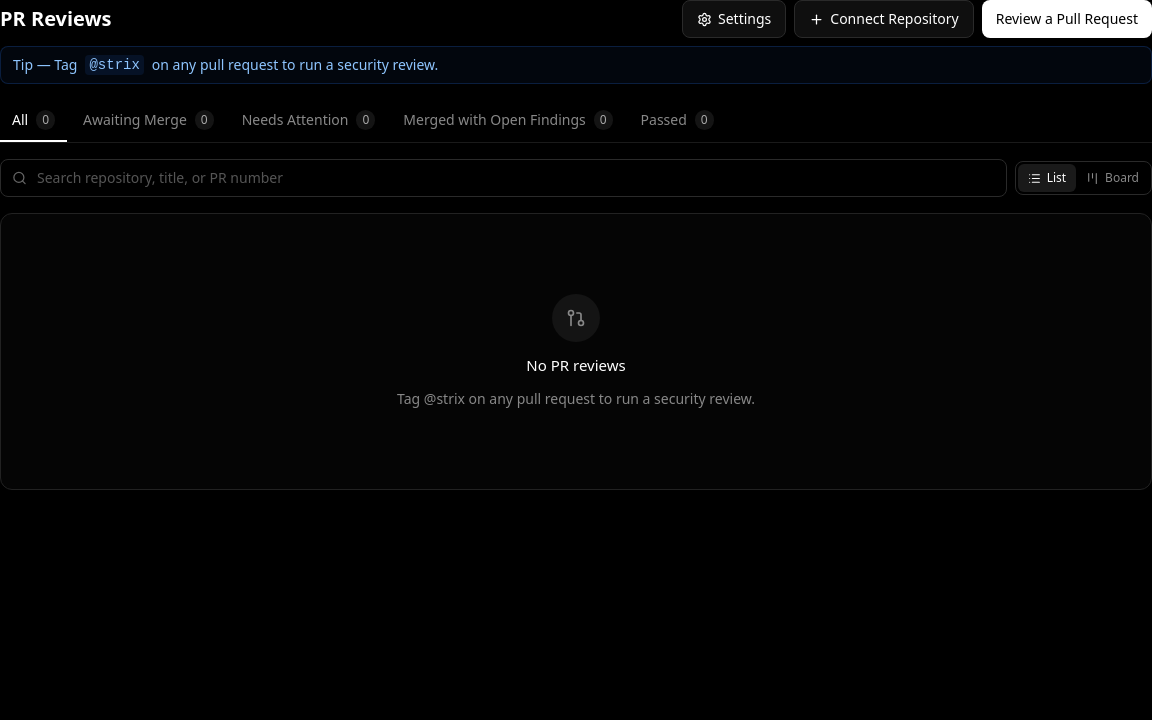
Test: PRReviewsList › trigger review modal › shows an empty state when there are no connected repositories to review
Click the button "Review a Pull Request": (1067, 19) [982,0,1151,38]
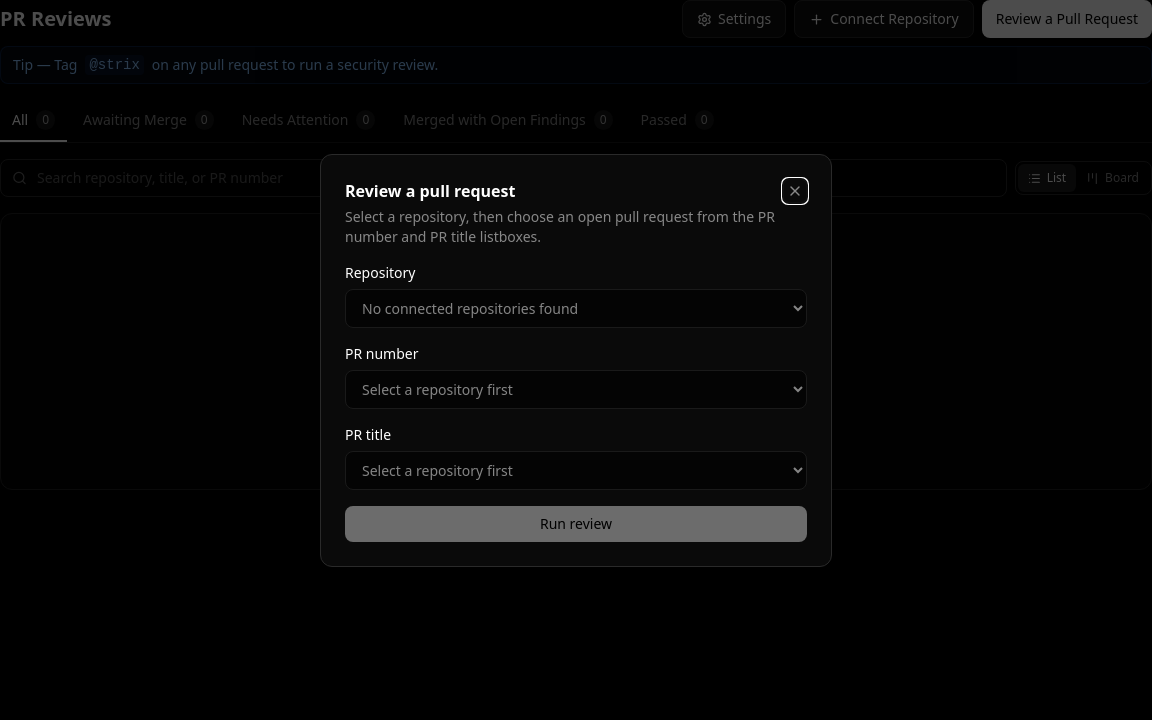
Expected: the dropdown labelled "Repository" is disabled, [345,288,807,328]
Expected: the text "PR number" is shown, [345,344,418,362]
Expected: the text "PR title" is shown, [345,424,391,444]
